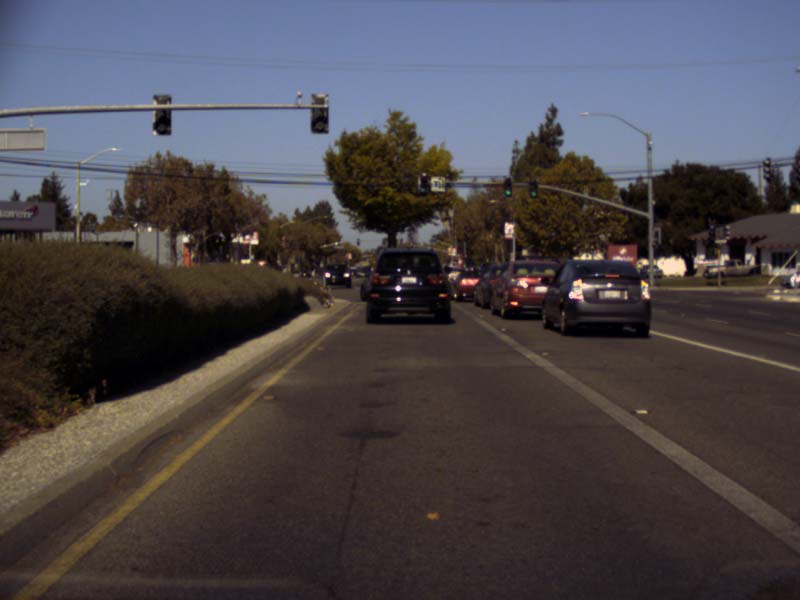Green: (418, 174, 428, 194), (528, 179, 537, 197), (503, 179, 512, 196)
